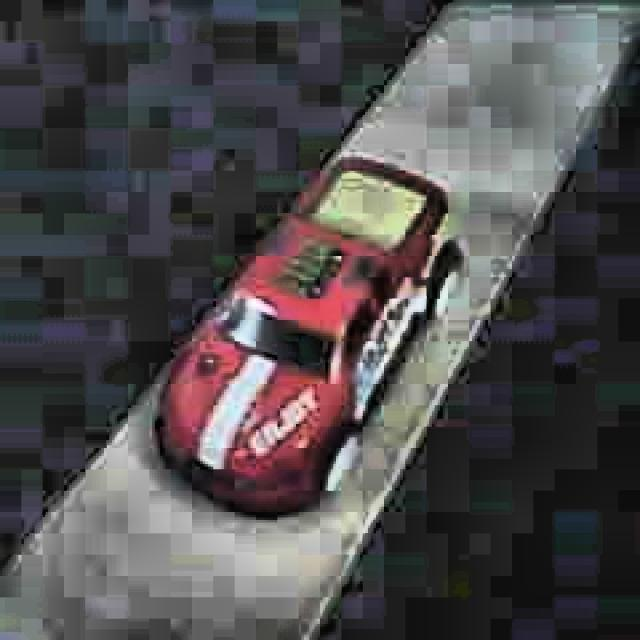car: (150, 153, 462, 522)
